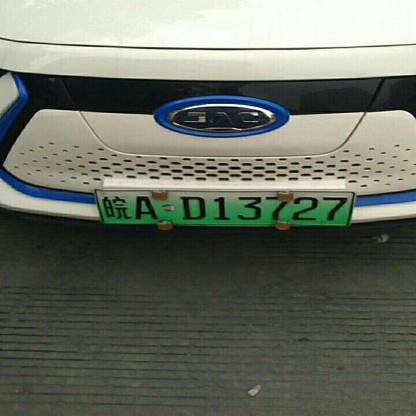lp: (95, 190, 354, 226)
